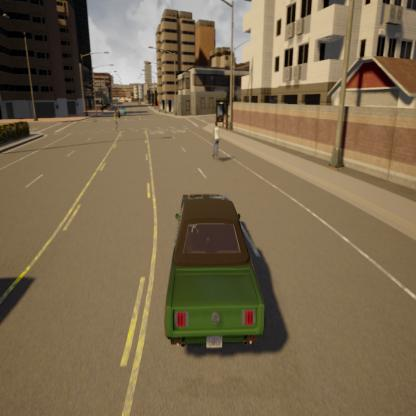Cars: (147, 177, 270, 368), (116, 102, 127, 118)
Pedestrian: (112, 107, 120, 133)
